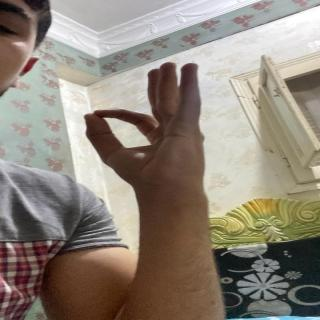Space: (86, 62, 221, 182)
